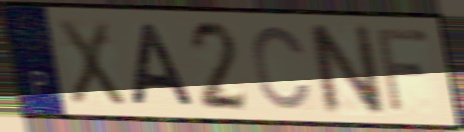2: (189, 18, 251, 114)
A: (127, 20, 199, 108)
C: (249, 23, 315, 114)
F: (373, 25, 433, 116)
N: (303, 22, 388, 118)
X: (54, 16, 130, 109)
